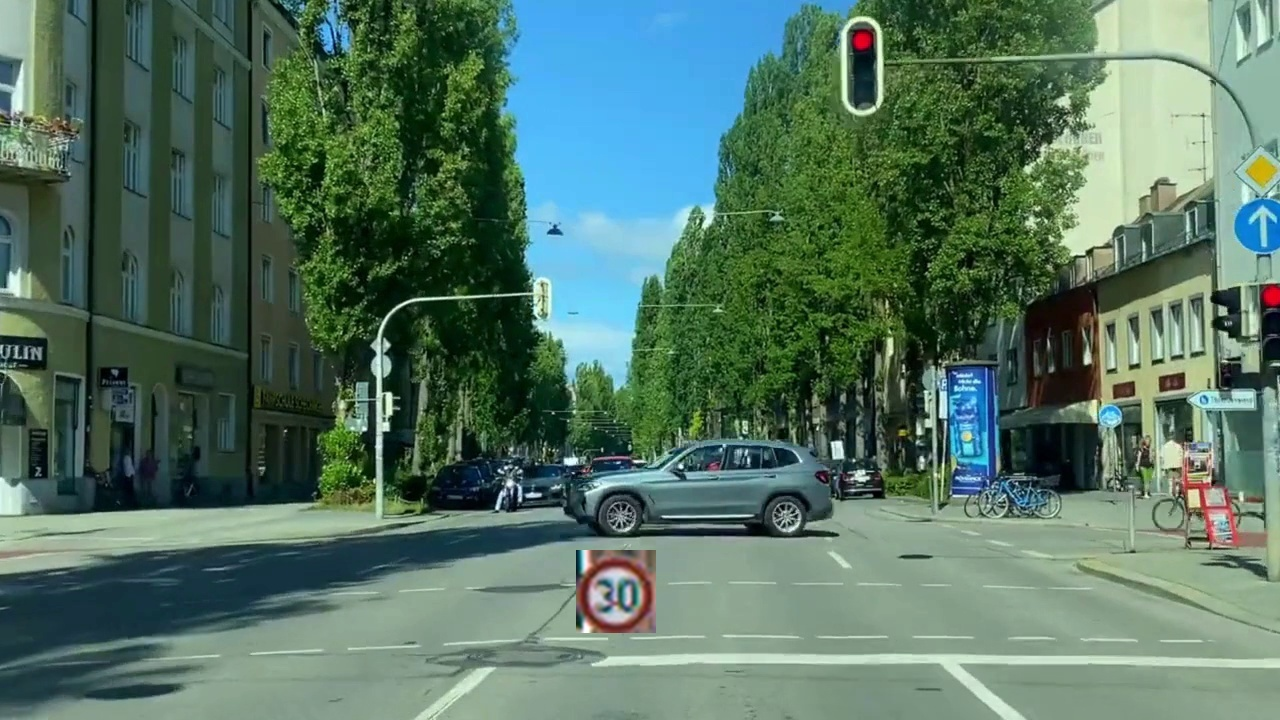Speed 30: (576, 550, 656, 633)
